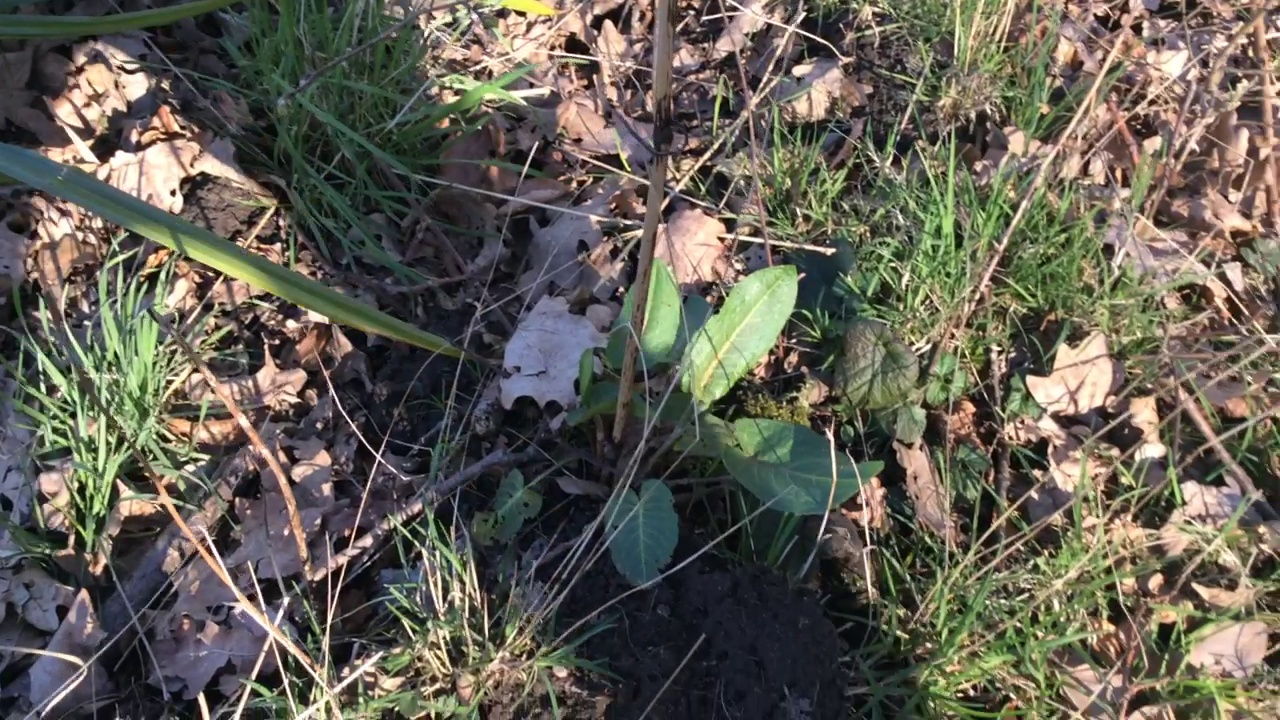rumex: (476, 258, 886, 588)
